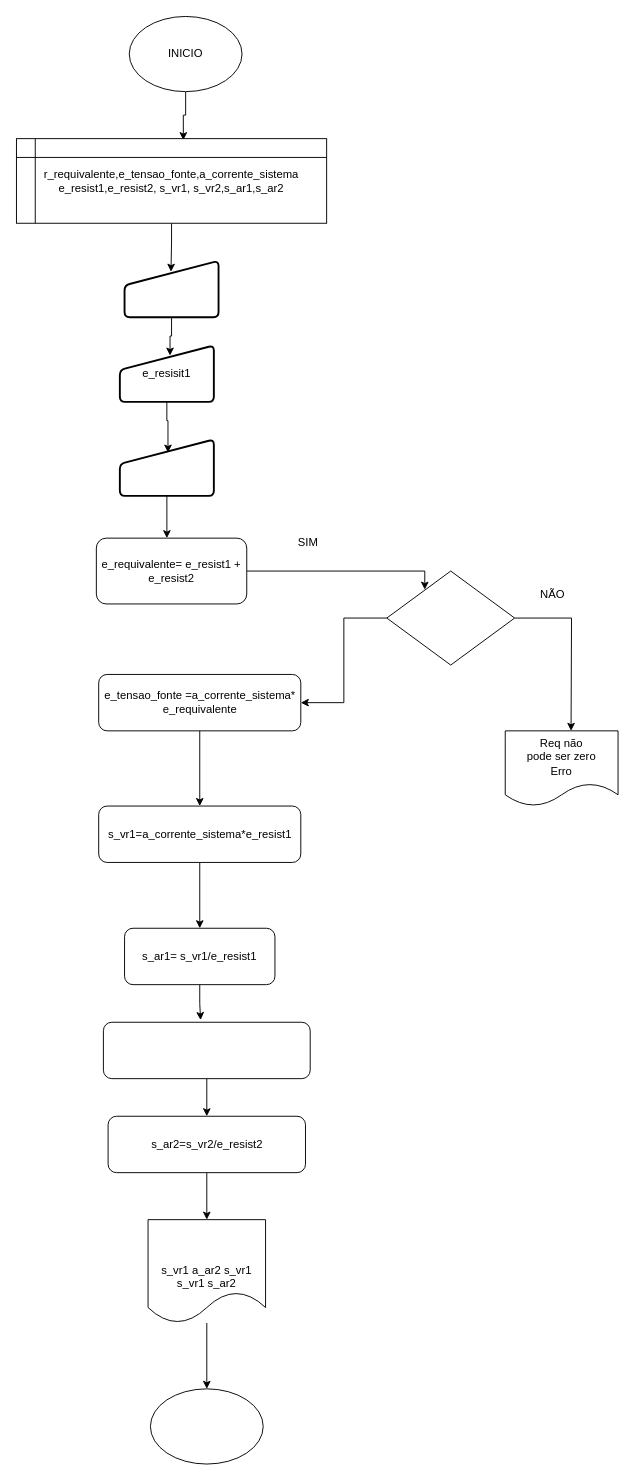
The diagram is 635 pixels wide and 1481 high, and some of its shapes have lost their labels. The shapes that lost their labels are listed below. From the top down, each one's centre as x and y in pixels, then its label:
At pixel 171 288: "e_tensao".
At pixel 166 467: "e_resist2".
At pixel 450 617: "e_requivalente>0".
At pixel 206 1050: "s_vr2=a_corrente_sistema*e_resist2".
At pixel 206 1426: "FIM".
